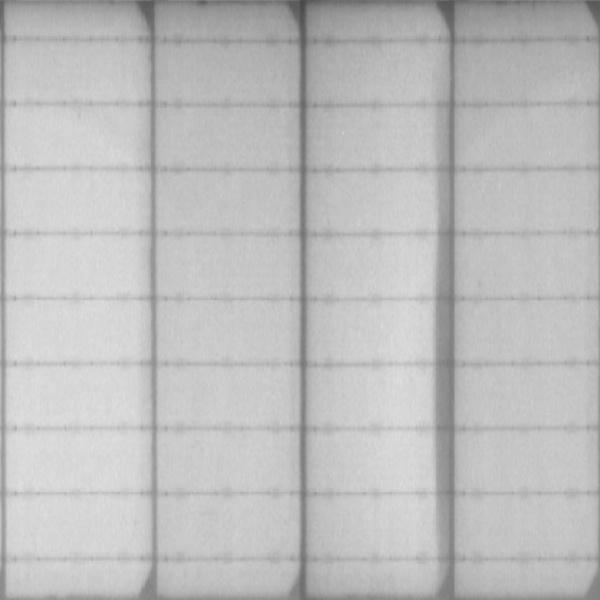black_border: (433, 96, 462, 592)
